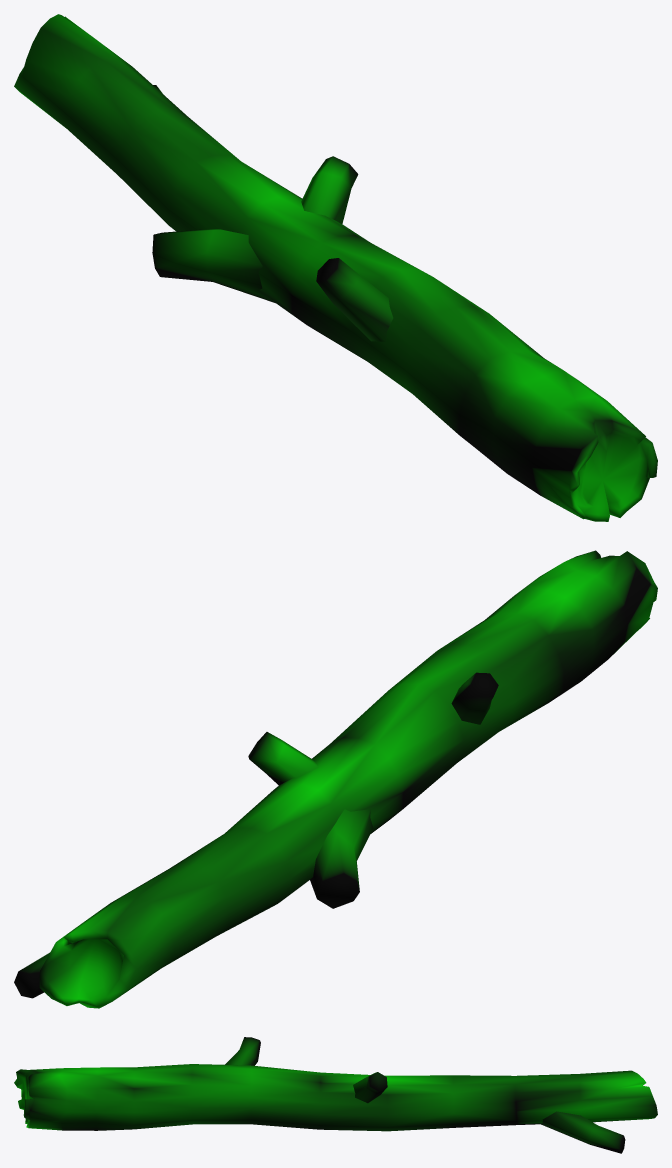
The model's file is SM_FirFallen1.FBX.
The picture shows the model from 3 angles, top to bottom: view 1: azimuth 30°, elevation 25°; view 2: azimuth 150°, elevation 25°; view 3: azimuth 270°, elevation 25°; orthographic projection. The views are drawn at different scales.
Visible parts, largest first — view 1: SM_FirFallen1; view 2: SM_FirFallen1; view 3: SM_FirFallen1.
Part boxes in pixels (x1,y1,x2,y2): SM_FirFallen1: (14, 14, 657, 521); SM_FirFallen1: (14, 550, 657, 1008); SM_FirFallen1: (14, 1037, 657, 1153).
Size of the model in its own units: 186 by 992 by 129.
